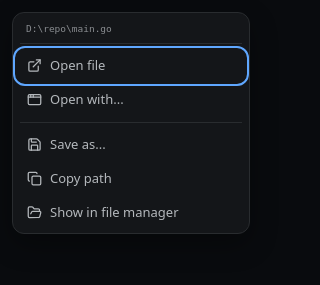
FileLinkContextMenu › keeps the menu open and reports native action failures
Click the menu item "Open with..." at [131, 100], box [17,84,245,116]
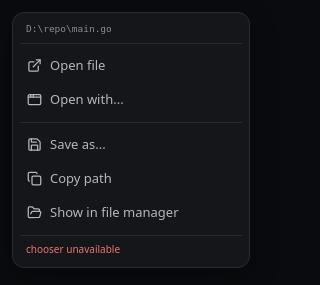
Now the message "chooser unavailable" is shown, box [20,235,242,262]
